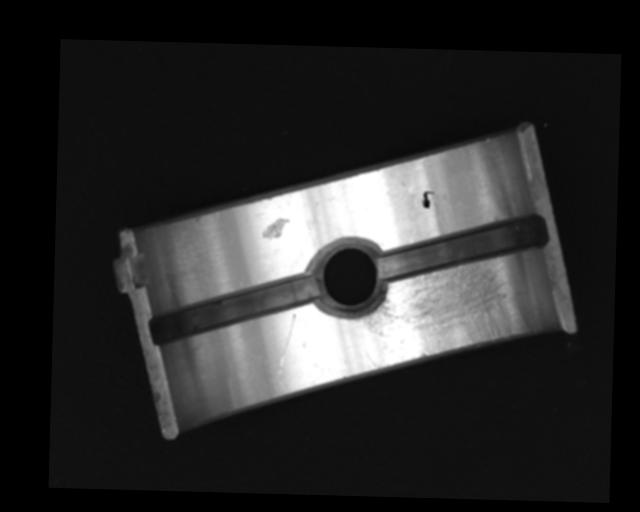blot: (420, 190, 435, 209)
bruise: (261, 217, 289, 241)
gap: (148, 268, 319, 348), (377, 209, 548, 288)
hole: (314, 236, 387, 317)
nick: (277, 313, 296, 374)
scratch: (356, 247, 529, 371)
